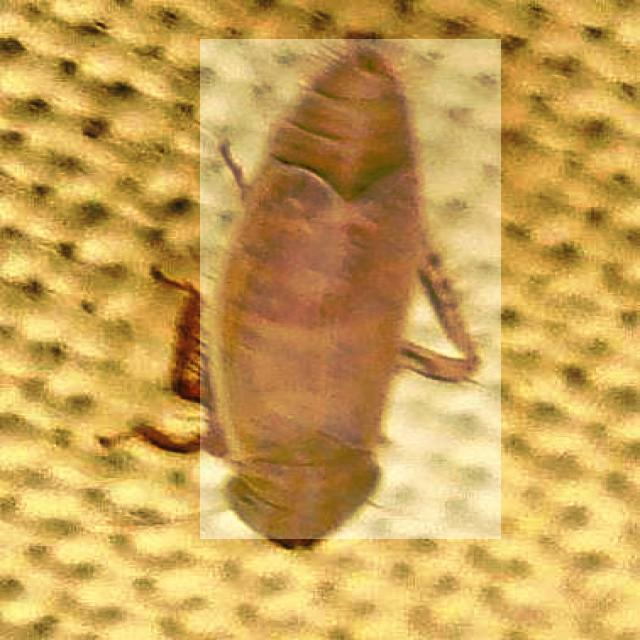green-leafhopper: (200, 39, 501, 539)
